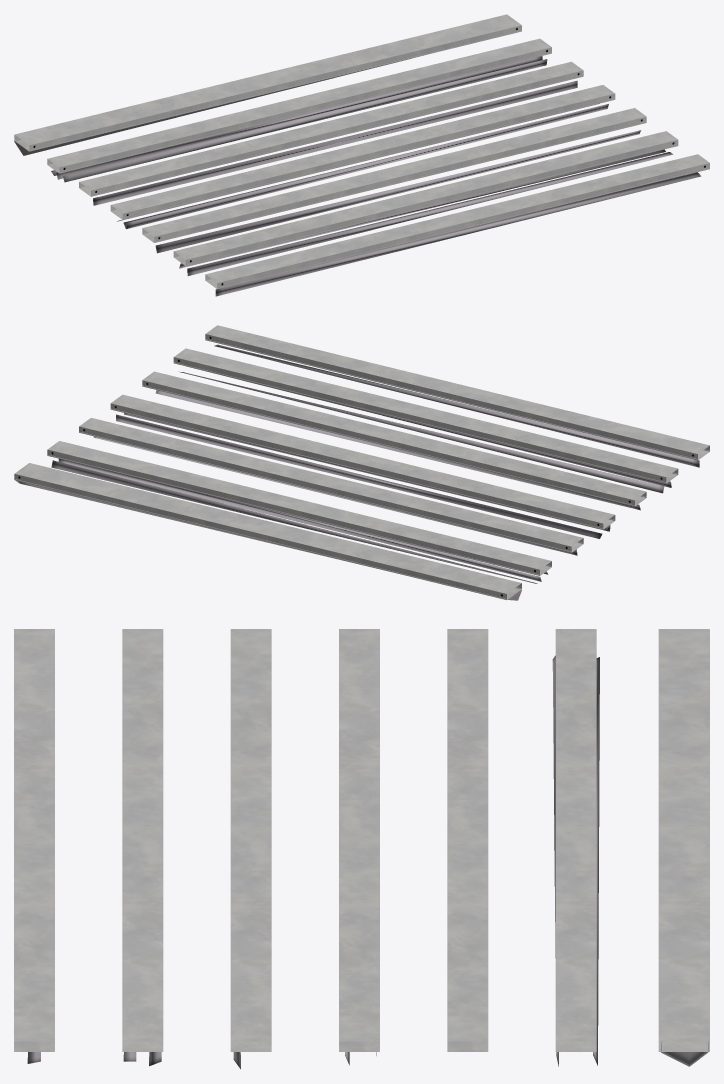
Rendered from mounted_fluorescent_lights_game.gltf.
3 views of the same model, one above another, from view 1: azimuth 30°, elevation 25°; view 2: azimuth 150°, elevation 25°; view 3: azimuth 270°, elevation 25° (orthographic). The views are drawn at different scales.
Parts seen in each view (by area): view 1: mounted_fluorescent_lights; view 2: mounted_fluorescent_lights; view 3: mounted_fluorescent_lights.
Part boxes in pixels (x1,y1,x2,y2): mounted_fluorescent_lights: (14,14,709,296); mounted_fluorescent_lights: (14,325,709,600); mounted_fluorescent_lights: (14,629,709,1069).
Bounding box in the file's own units: 0.9038 × 0.0332 × 0.6426.
2 materials, 2 textured.
